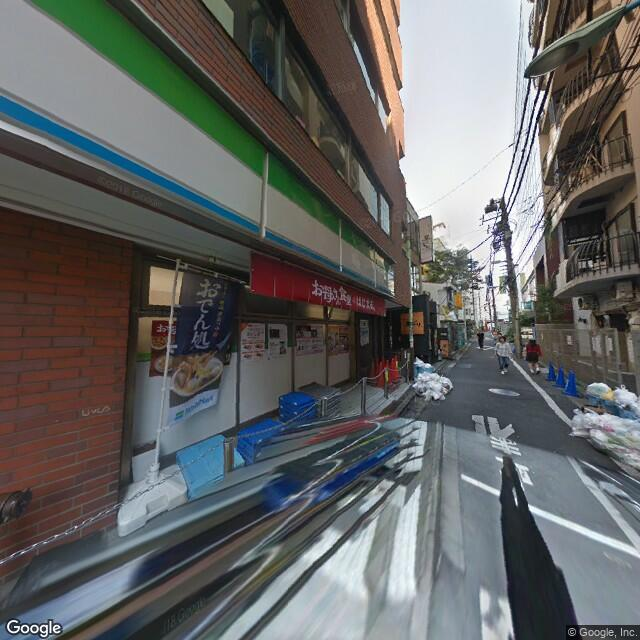family_mart: (2, 3, 395, 299)
